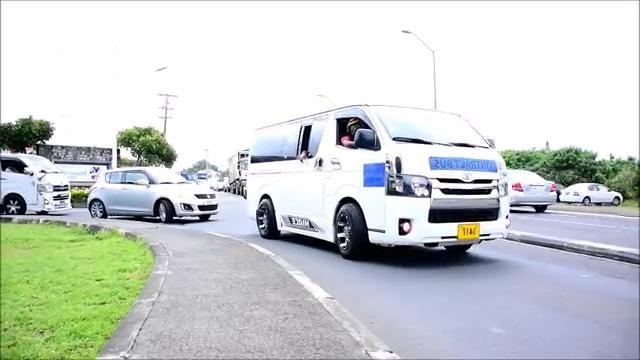van: (237, 111, 511, 263)
